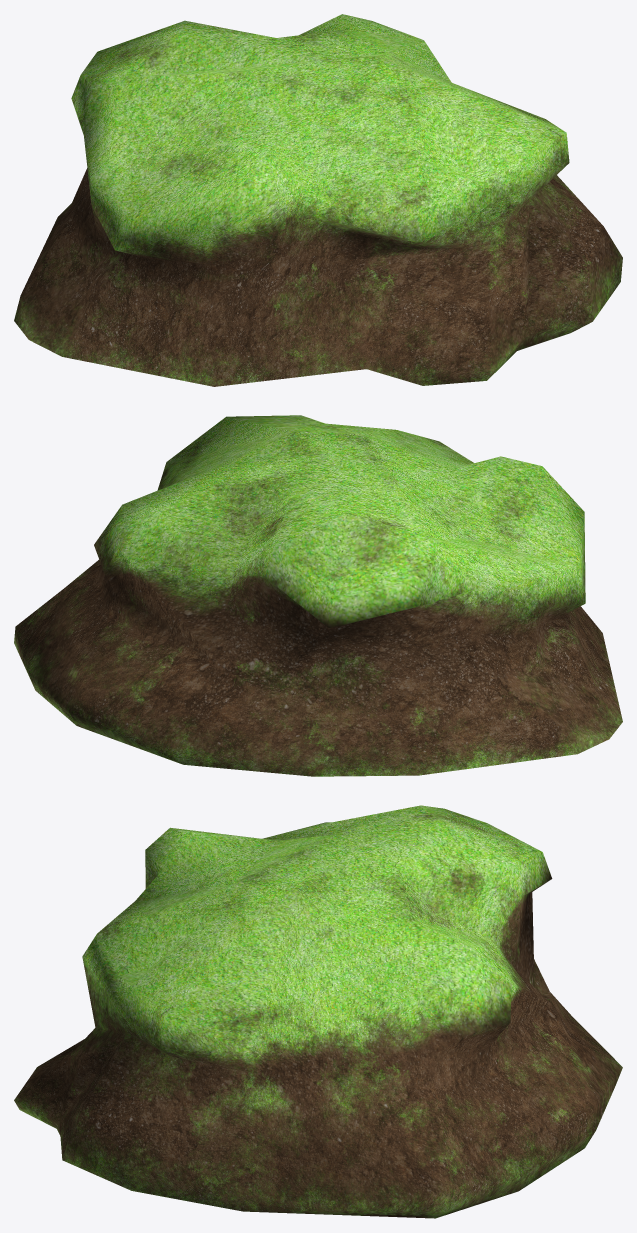
Rendered from ENV2910006.fbx.
3 renders of one model, top to bottom at view 1: azimuth 30°, elevation 25°; view 2: azimuth 150°, elevation 25°; view 3: azimuth 270°, elevation 25°, orthographic. The views are drawn at different scales.
Parts seen in each view (by area): view 1: smENV2910006; view 2: smENV2910006; view 3: smENV2910006.
Boxes of the visible parts, x1=… form: smENV2910006: x1=14, y1=14, x2=622, y2=386; smENV2910006: x1=14, y1=415, x2=622, y2=776; smENV2910006: x1=14, y1=805, x2=622, y2=1218.
Bounding box in the file's own units: 121 × 48.35 × 114.
1 material, 1 textured.
